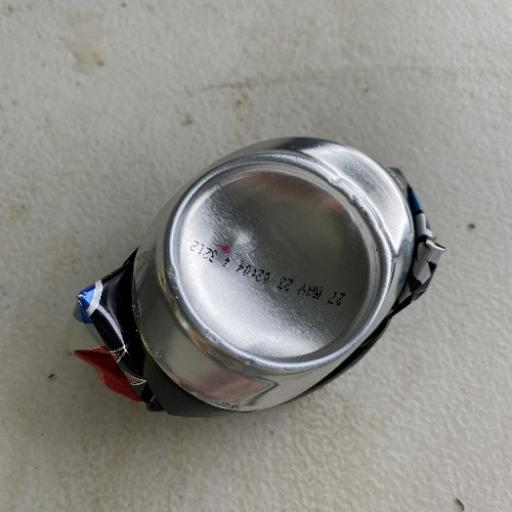Metal: (68, 133, 446, 418)
